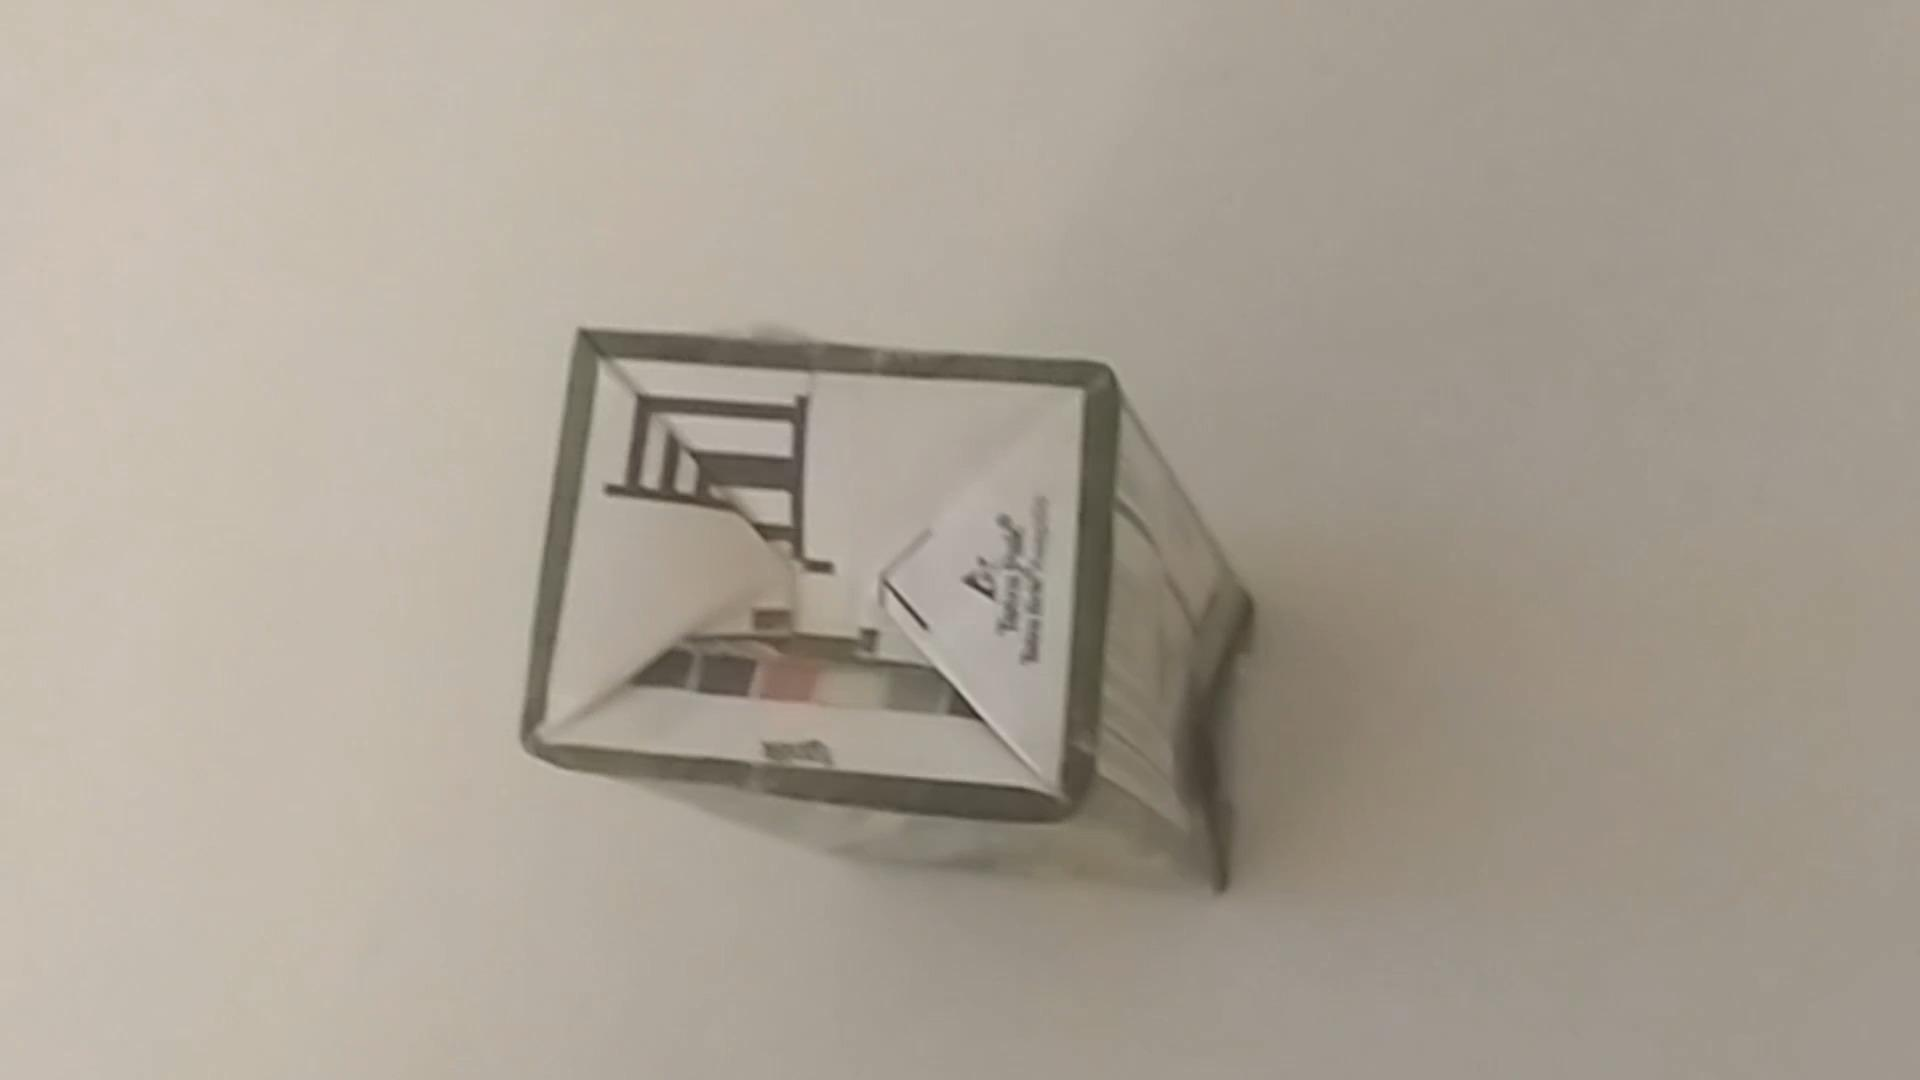coco: (508, 310, 1290, 910)
